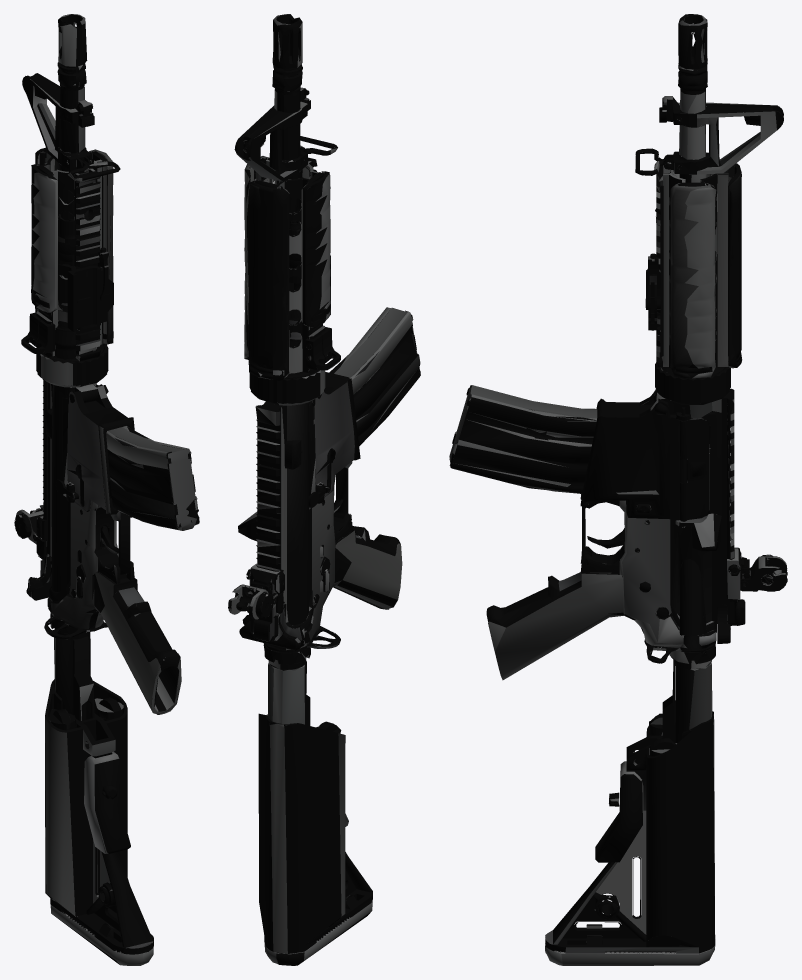
Rendered from M4A4__Light_Weapon.fbx.
3 views of the same model, side by side, from view 1: azimuth 30°, elevation 25°; view 2: azimuth 150°, elevation 25°; view 3: azimuth 270°, elevation 25° (orthographic). The views are drawn at different scales.
Visible parts, largest first — view 1: asset_M4A4.001; view 2: asset_M4A4.001; view 3: asset_M4A4.001.
Boxes of the visible parts, x1,y1,x2,y2 form: asset_M4A4.001: (14, 14, 199, 965); asset_M4A4.001: (228, 14, 420, 965); asset_M4A4.001: (449, 14, 787, 965).
Bounding box in the file's own units: 0.0452 × 0.444 × 0.1447.
